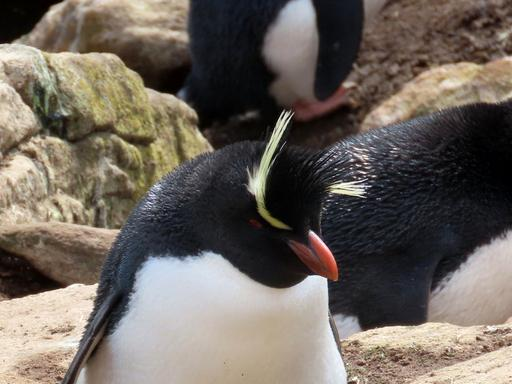Southern Rockhopper Penguin: (26, 62, 365, 384)
